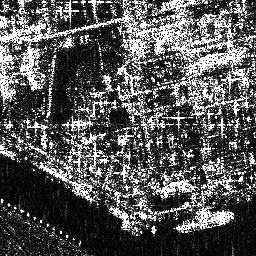ship: (173, 212, 239, 236)
